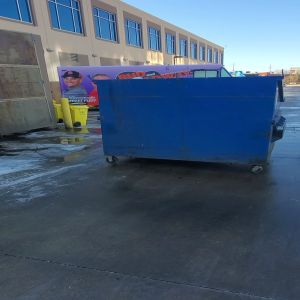Dumpster: (93, 79, 287, 177)
